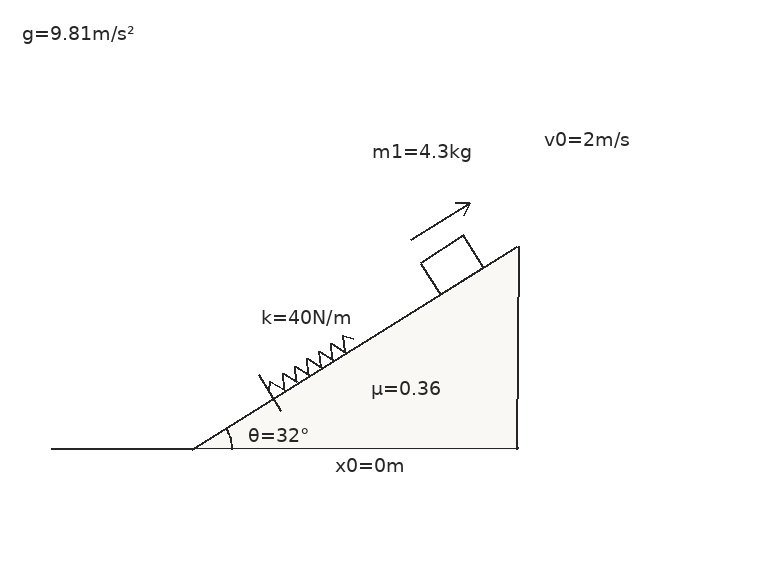block: (418, 233, 485, 296)
ramp: (190, 244, 519, 451)
spring: (266, 334, 355, 393)
